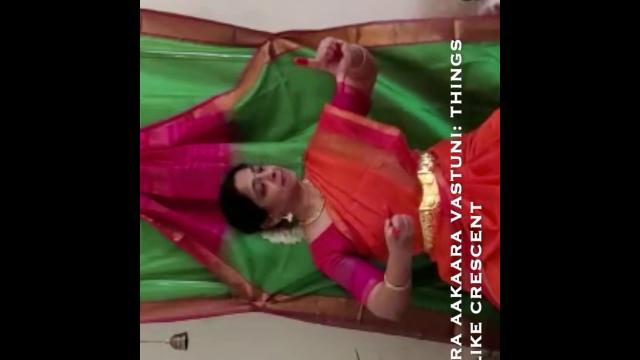chandrakala: (284, 22, 374, 116), (369, 191, 431, 269)
